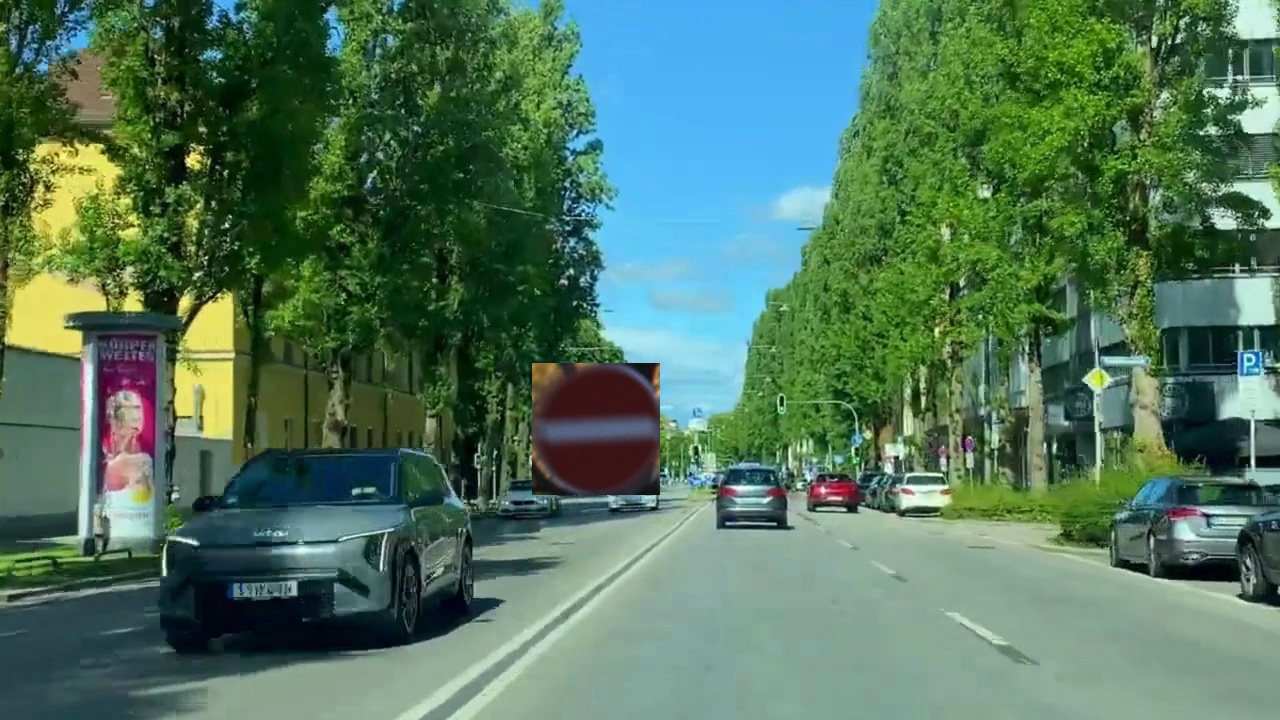No entry: (532, 363, 660, 495)
